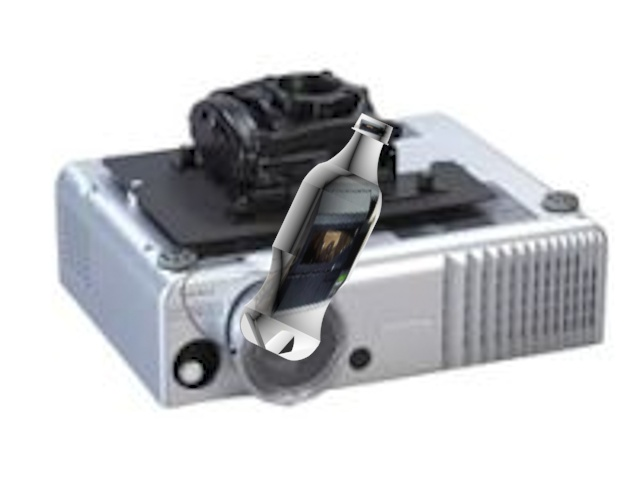bottle: (233, 113, 400, 364)
